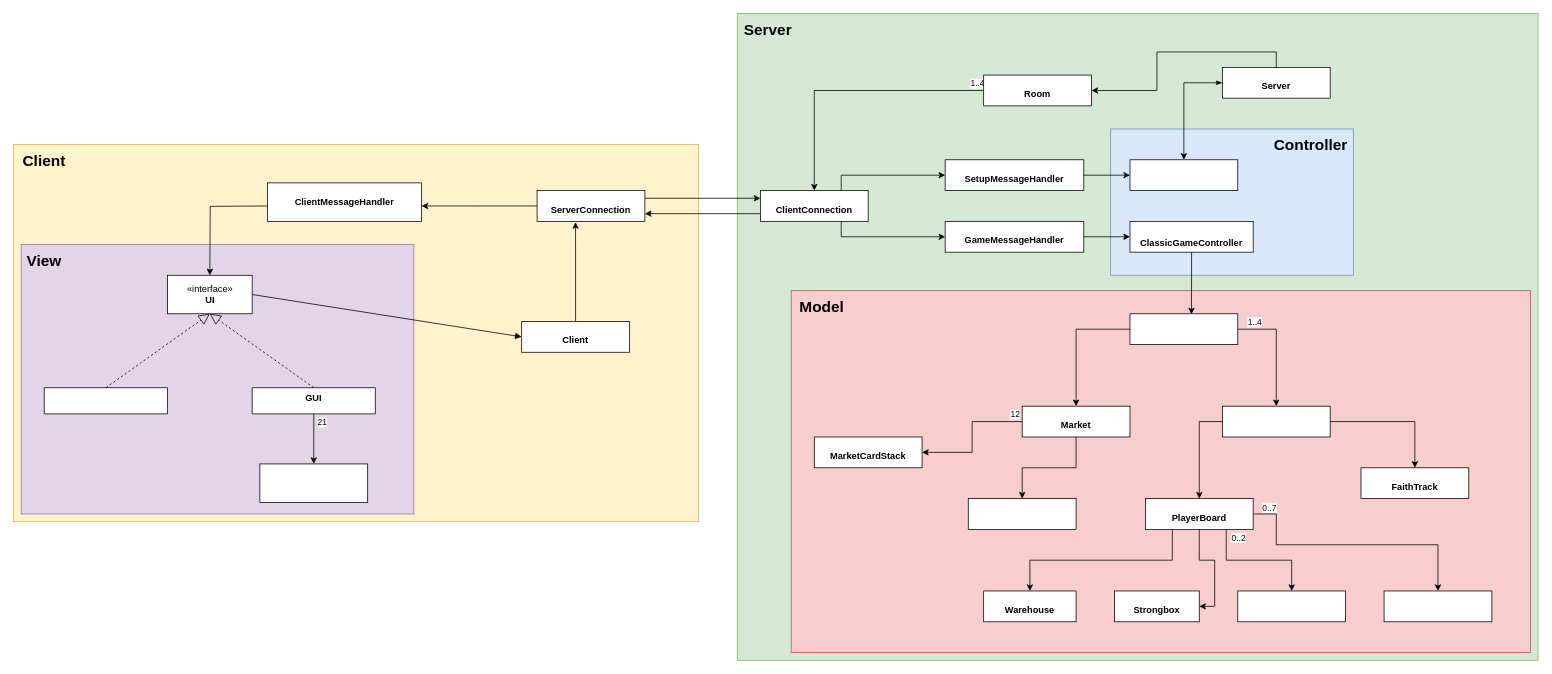
Image size: 1552x674. Some labels were removed from this diagram. Here are the shapes that lost their labels. From the top down, the centre of each, then its label:
[1183,175]: ServerController
[1183,329]: Game
[105,400]: CLI
[1276,421]: Player
[313,482]: «interface» SceneController
[1022,513]: MarbleStructure
[1291,606]: LeaderCard
[1437,606]: DevelopmentCard
